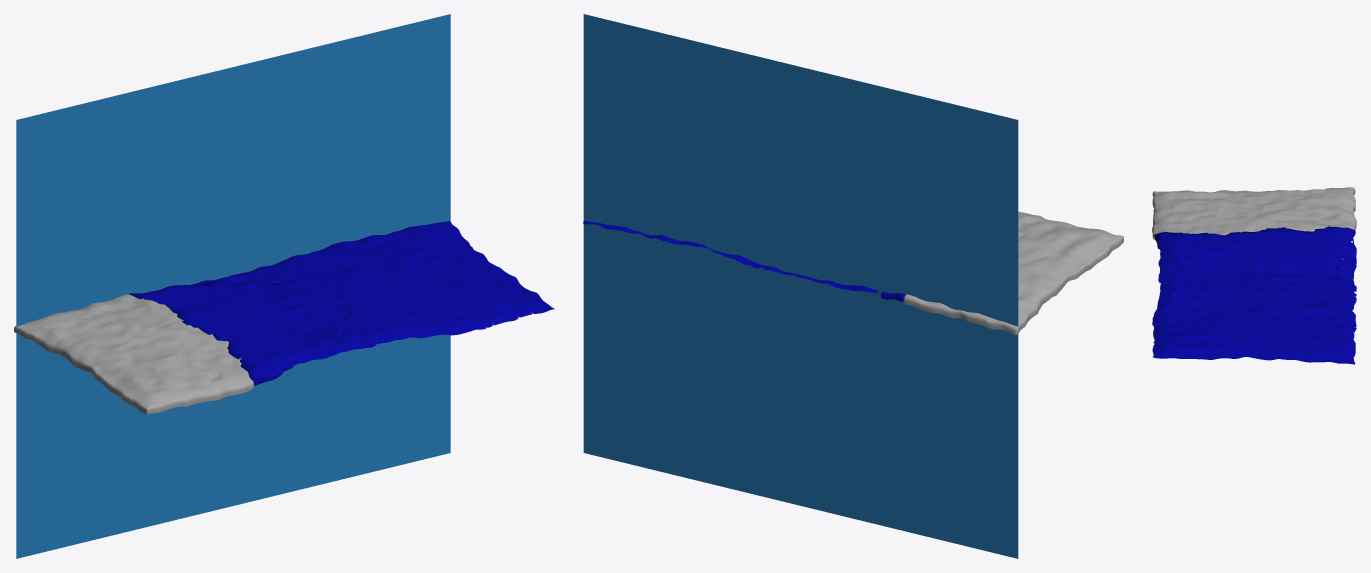
The model's file is backgroud_snow_water.obj.
3 views of the same model, side by side, from view 1: azimuth 30°, elevation 25°; view 2: azimuth 150°, elevation 25°; view 3: azimuth 270°, elevation 25° (orthographic). The views are drawn at different scales.
Parts seen in each view (by area): view 1: Sky_Plane.001, Water_Plane.002, Snow_Plane, Ice_Shelf_Plane.003; view 2: Sky_Plane.001, Snow_Plane, Water_Plane.002; view 3: Water_Plane.002, Ice_Shelf_Plane.003, Snow_Plane.
Part boxes in pixels (x1,y1,x2,y2): Sky_Plane.001: [16, 14, 450, 558]; Water_Plane.002: [159, 221, 554, 368]; Snow_Plane: [14, 294, 253, 414]; Ice_Shelf_Plane.003: [129, 280, 346, 385]; Sky_Plane.001: [583, 14, 1018, 558]; Snow_Plane: [903, 211, 1123, 334]; Water_Plane.002: [583, 221, 878, 292]; Water_Plane.002: [1152, 242, 1356, 364]; Ice_Shelf_Plane.003: [1154, 226, 1354, 283]; Snow_Plane: [1152, 187, 1356, 239].
Size of the model in its own units: 44.27 by 42.66 by 21.54.
